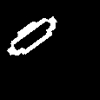chain: (7, 17, 55, 54)
